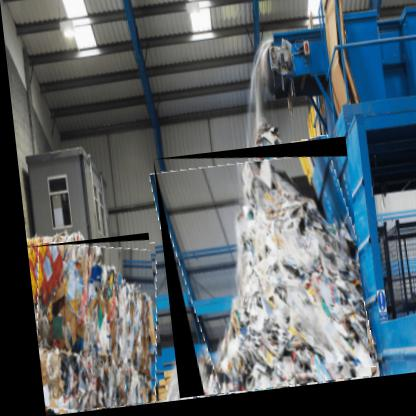Garbage: (150, 145, 364, 403), (23, 237, 159, 416)
